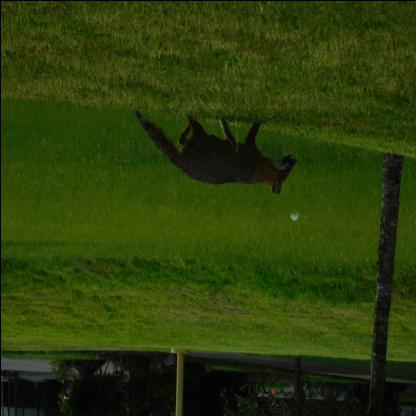zorro: (131, 108, 300, 196)
